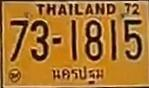1: (70, 20, 76, 60), (110, 19, 115, 60)
3: (30, 20, 48, 60)
5: (123, 19, 141, 59)
7: (9, 19, 28, 61)
8: (84, 19, 102, 60)
NPT: (51, 64, 105, 85)
